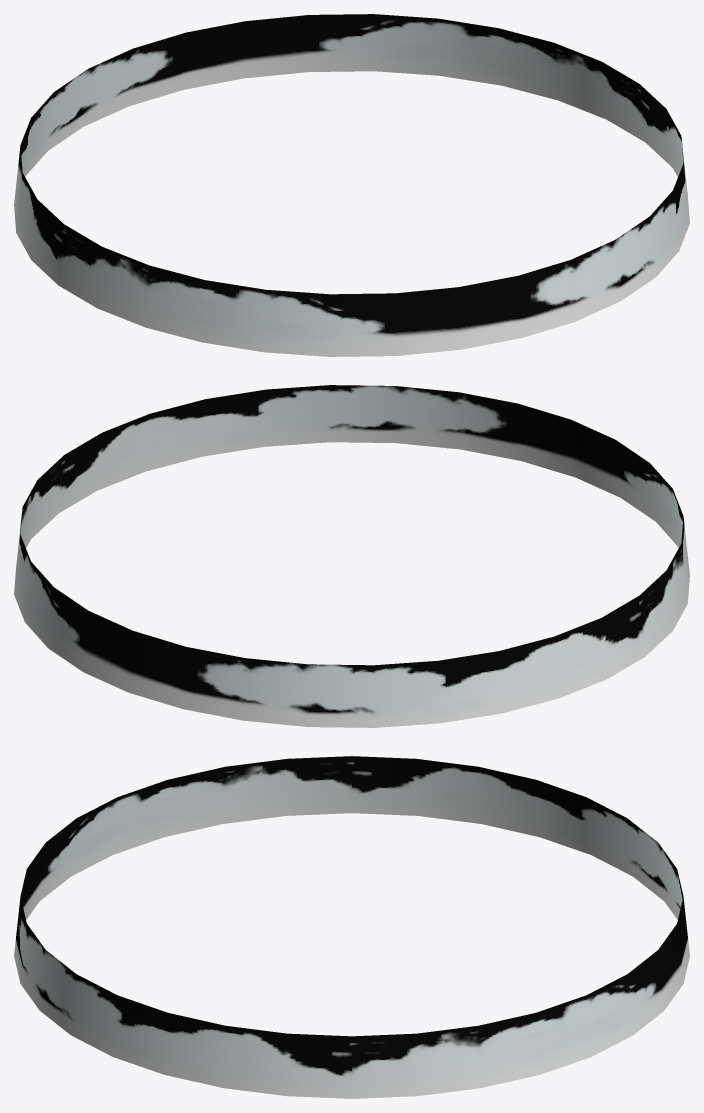
The model's file is Cloud4.obj.
The picture shows the model from 3 angles, top to bottom: view 1: azimuth 30°, elevation 25°; view 2: azimuth 150°, elevation 25°; view 3: azimuth 270°, elevation 25°; orthographic projection.
Parts seen in each view (by area): view 1: Object004; view 2: Object004; view 3: Object004.
Part boxes in pixels (x1,y1,x2,y2): Object004: (14,14,689,356); Object004: (14,385,689,727); Object004: (14,756,689,1098).
Bounding box in the file's own units: 27.48 × 2.68 × 27.48.
